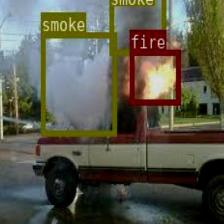fire: (129, 49, 179, 104)
smoke: (40, 32, 116, 134), (109, 0, 165, 54)
